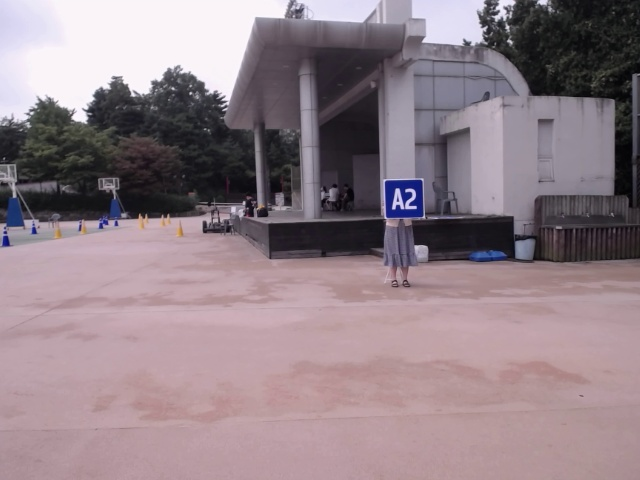delivery_a2: (384, 179, 425, 219)
